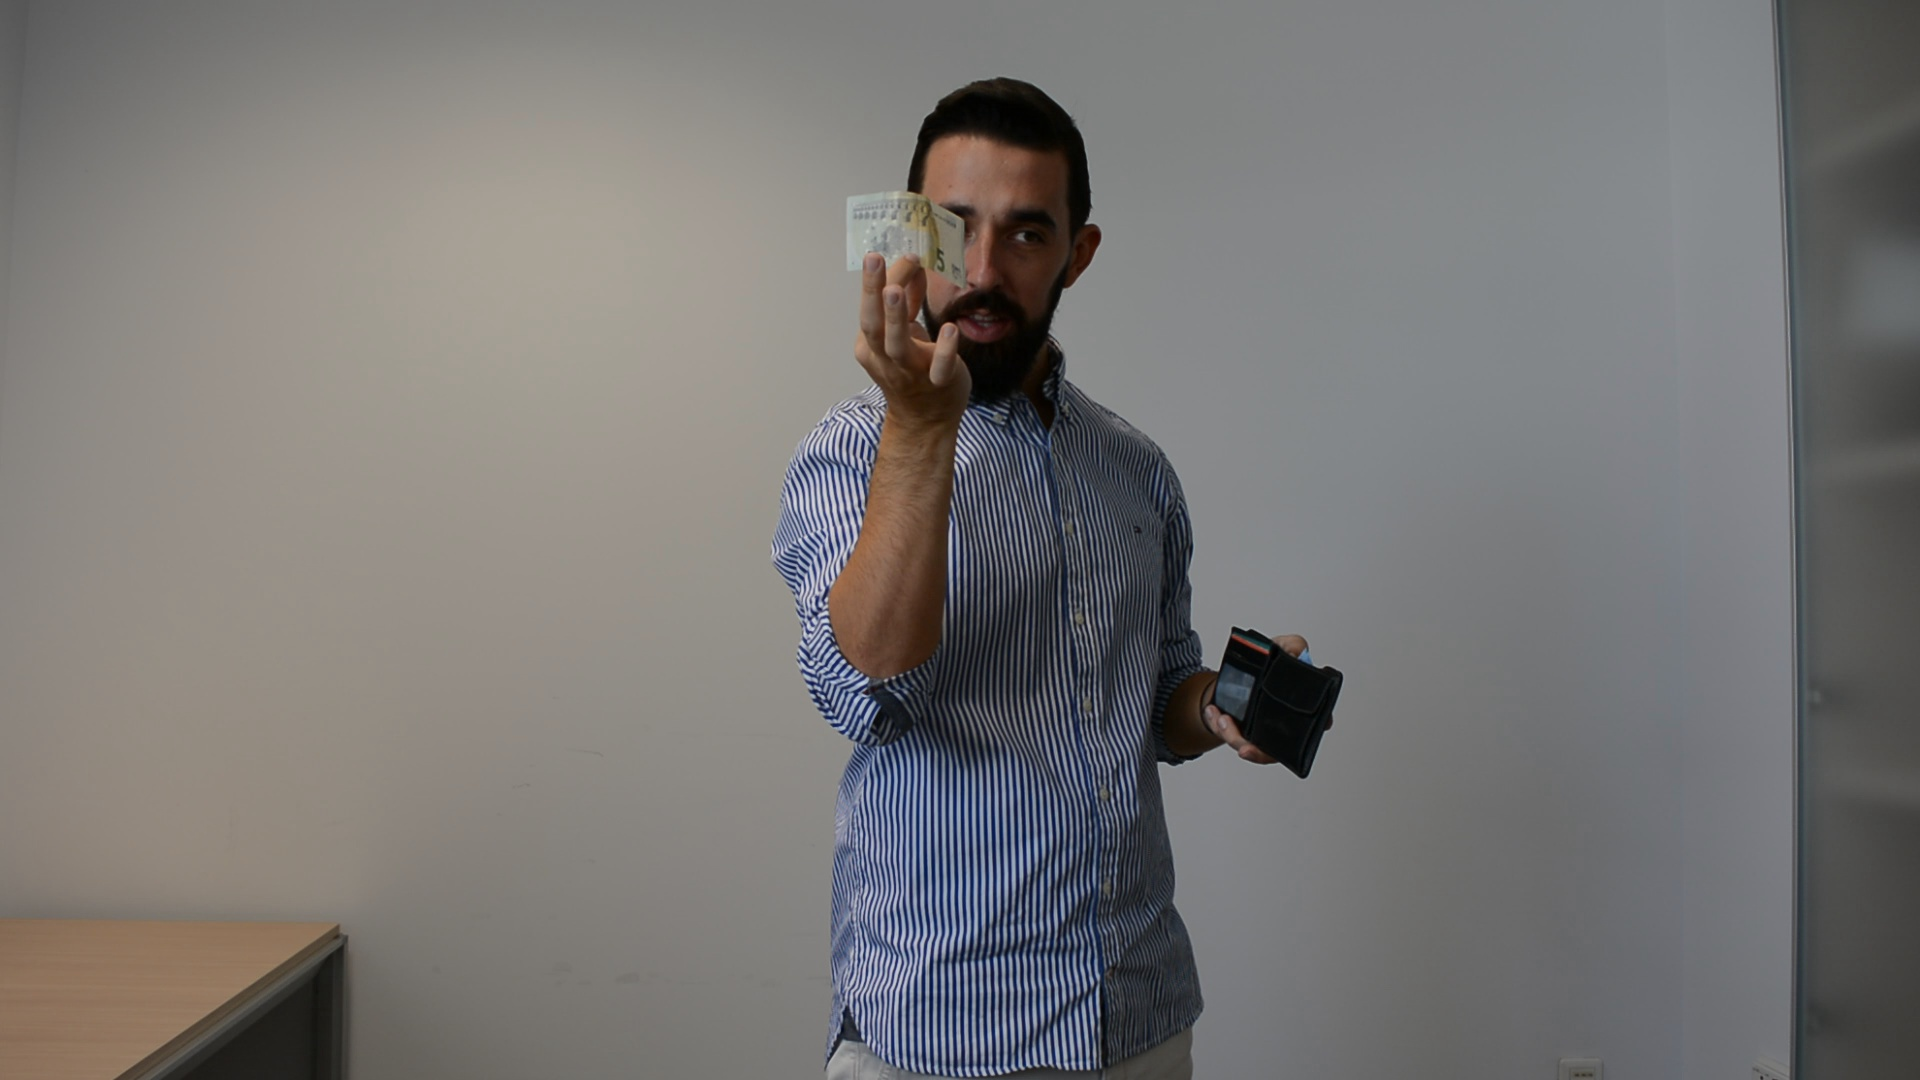billete: (843, 189, 969, 291)
monedero: (1204, 622, 1346, 781)
